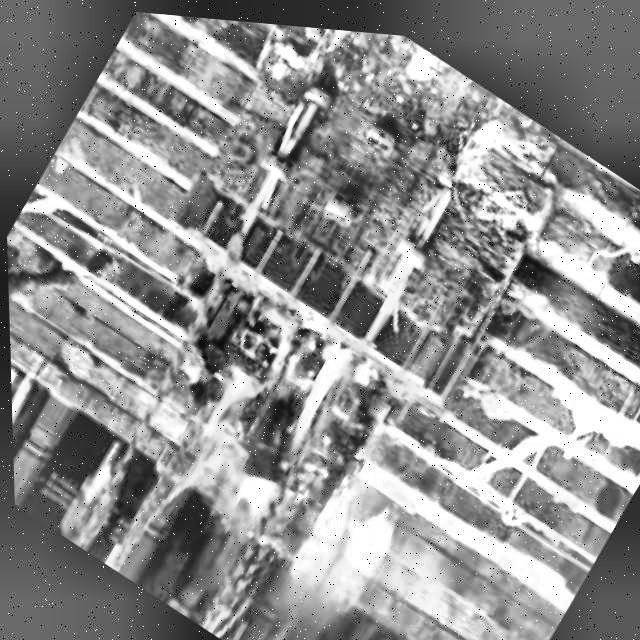Fire: (140, 272, 380, 581)
